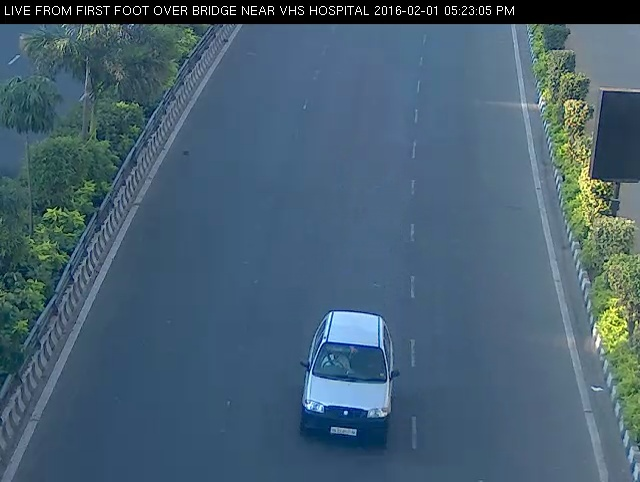Car: (282, 300, 417, 459)
